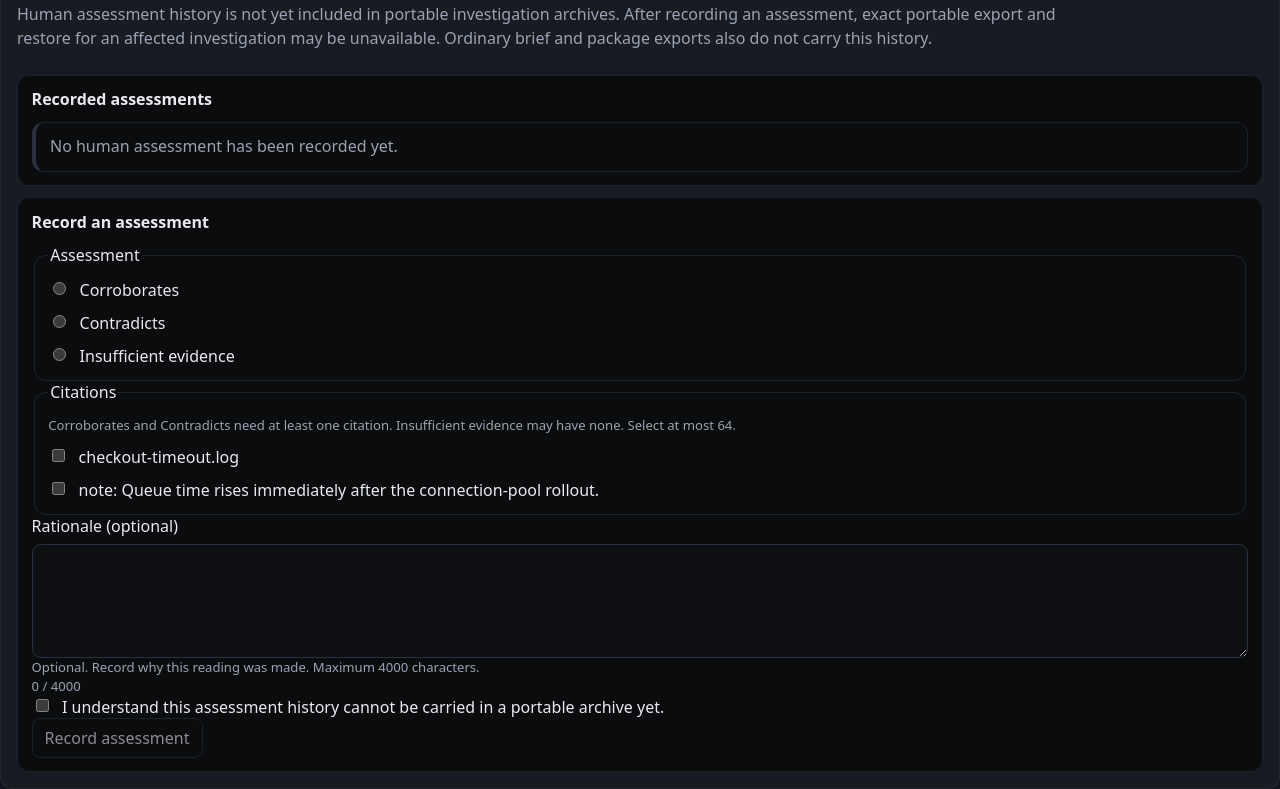
Test: shared human assessments panel › maps links_required without exposing private detail
The image size is (1280, 789).
(page scrolled)
Click the checkbox labelled "I understand this assessment history cannot be carried" at [42, 706], box left=36, top=699, right=49, bottom=712
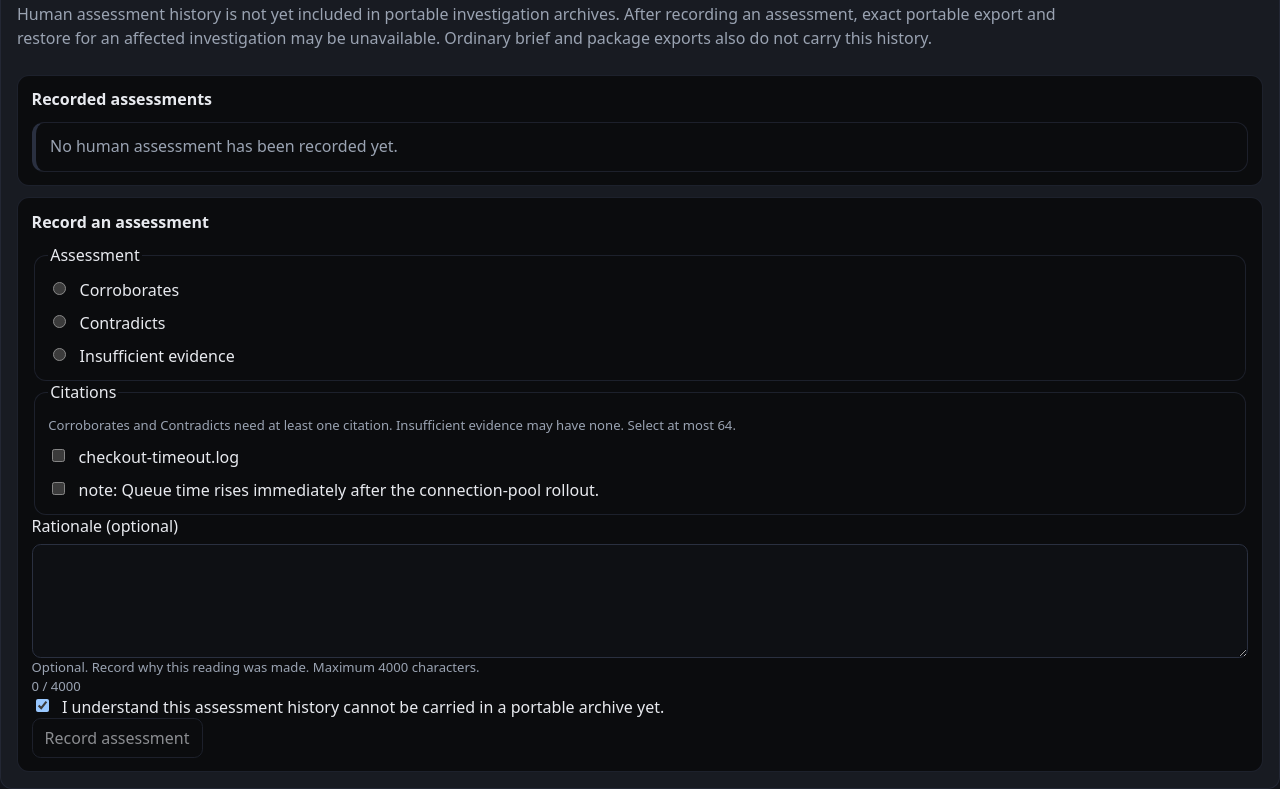
Click the radio button labelled "Insufficient evidence" at [60, 355], box left=53, top=348, right=66, bottom=362
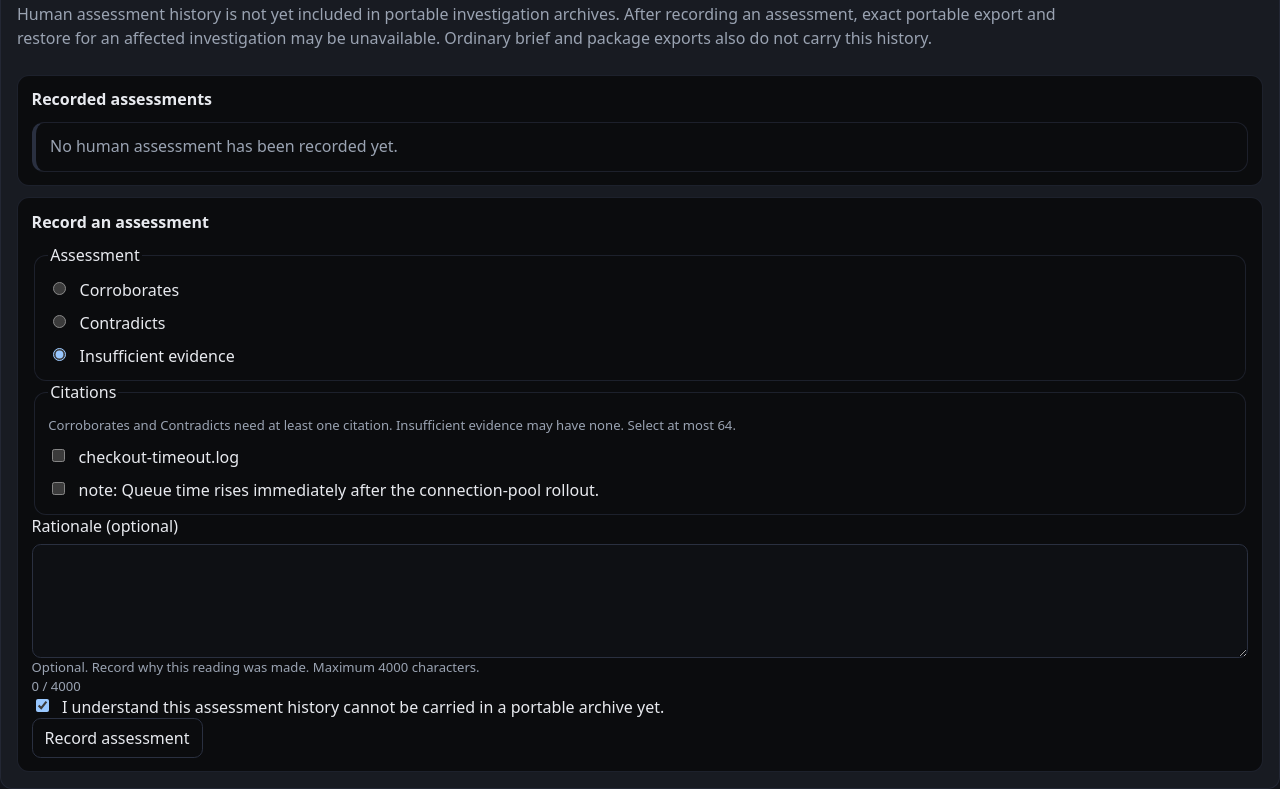
Click the button "Record assessment" at [117, 738], box left=32, top=718, right=202, bottom=758
(page scrolled)
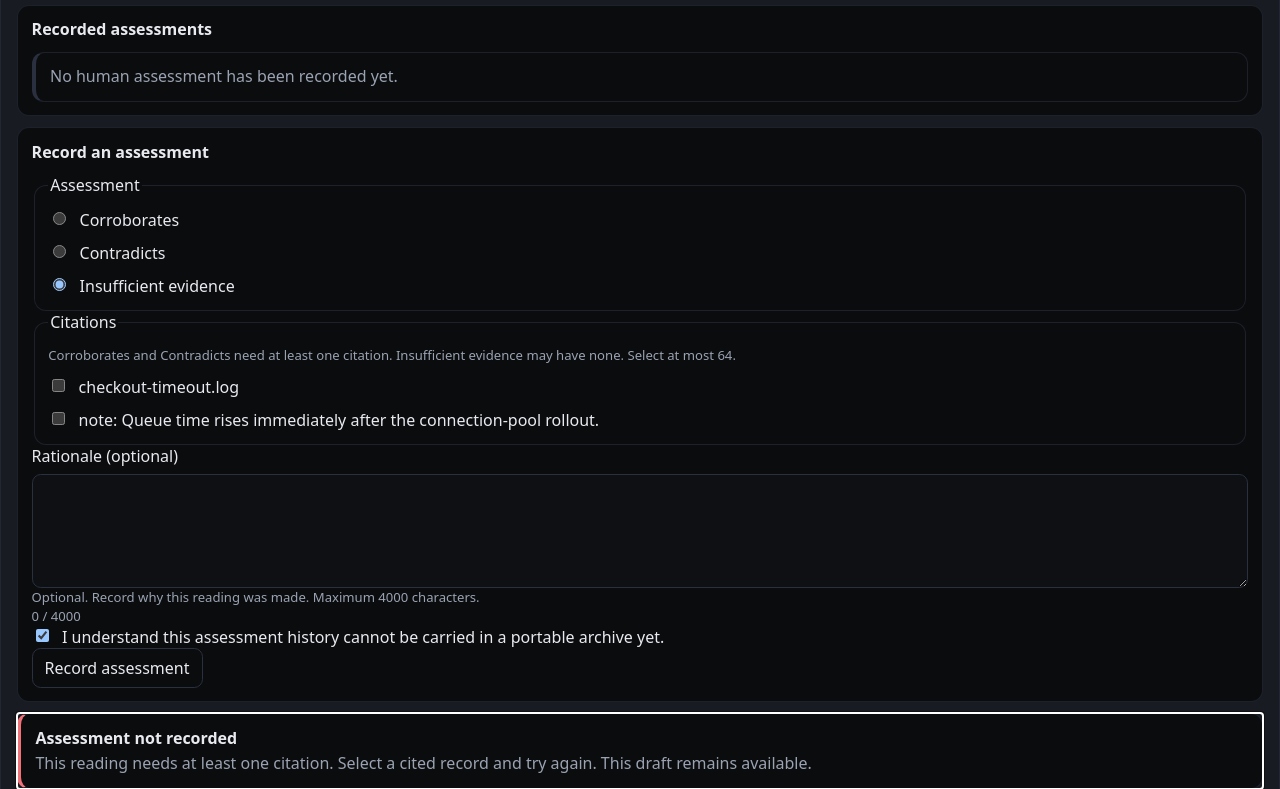
Result: the radio button labelled "Insufficient evidence" is checked at left=53, top=278, right=66, bottom=292
Result: the message that starts with "Assessment not recorded" shows "needs at least one citation" at left=35, top=752, right=812, bottom=774
